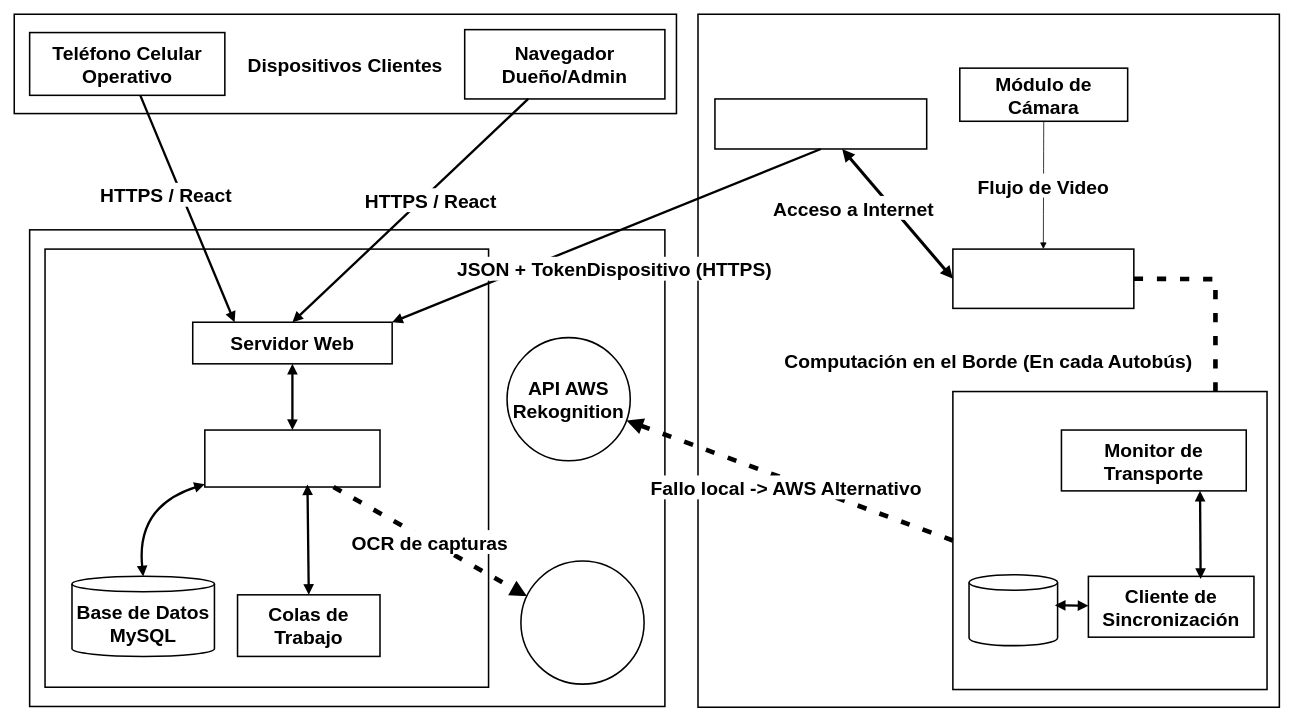
Some shapes in this 1293 by 721 pixel diagram are drawn without their labels. Each missing label, with the box of its shape:
API Gemini AI: (520, 560, 644, 685)
Backend Laravel PHP: (204, 429, 380, 487)
Buffer SQLite: (968, 574, 1058, 646)
Computadora de Procesamiento: (952, 248, 1134, 309)
Red Interna / WiFi Móvil 4G: (714, 98, 927, 149)
Scripts Python: (952, 390, 1267, 690)
